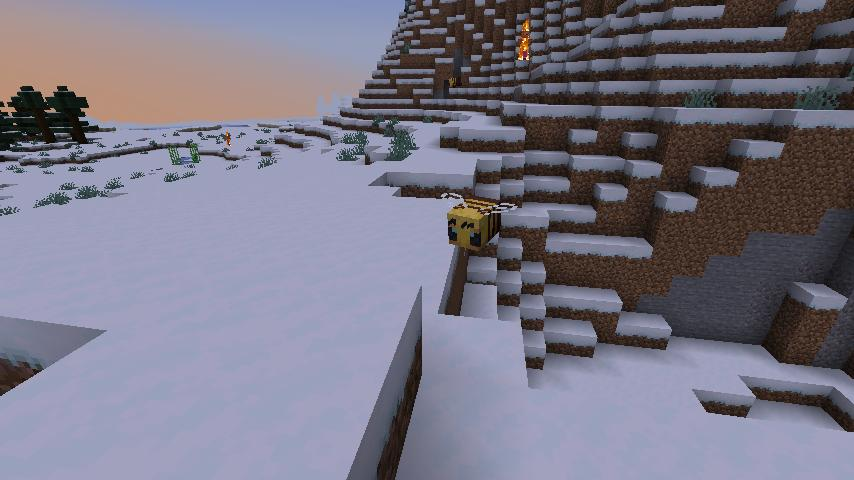bee: (438, 187, 520, 257)
